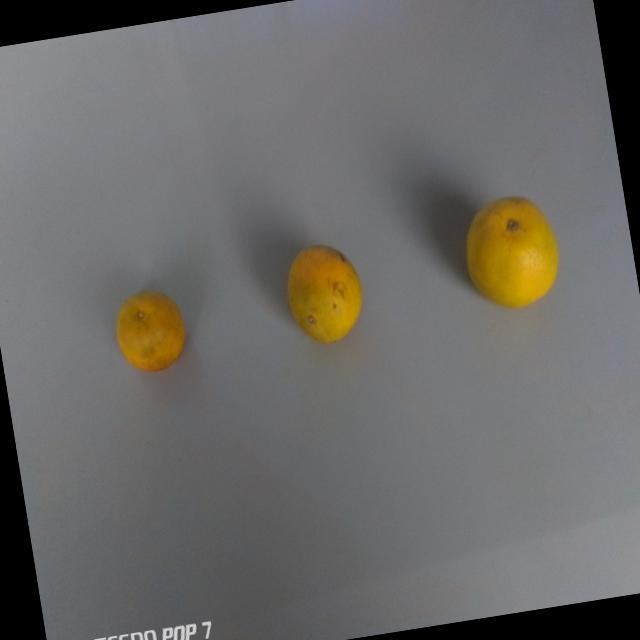agrume: (439, 175, 577, 325), (278, 230, 385, 358), (101, 279, 204, 395)
